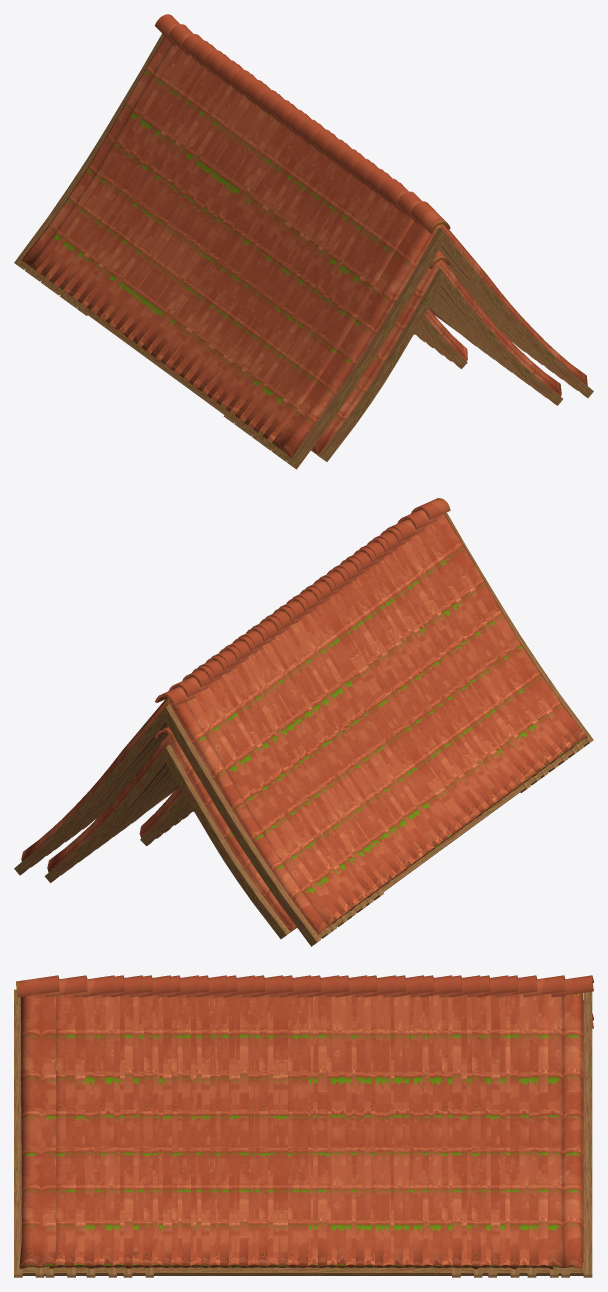
The model's file is village_kit.glb.
3 renders of one model, top to bottom at view 1: azimuth 30°, elevation 25°; view 2: azimuth 150°, elevation 25°; view 3: azimuth 270°, elevation 25°, orthographic. The views are drawn at different scales.
Parts seen in each view (by area): view 1: Roof_RoundTiles_8x14, Roof_RoundTiles_8x12, Roof_RoundTiles_8x10, Roof_RoundTiles_6x14, Roof_RoundTiles_8x8, Roof_RoundTiles_4x8; view 2: Roof_RoundTiles_8x14, Roof_RoundTiles_8x12, Roof_RoundTiles_8x10, Roof_RoundTiles_8x8, Roof_RoundTiles_6x14, Roof_RoundTiles_4x8; view 3: Roof_RoundTiles_8x14, Roof_RoundTiles_8x12, Roof_RoundTiles_8x10, Roof_RoundTiles_8x8.
Part boxes in pixels (x1,y1,x2,y2): Roof_RoundTiles_8x14: (14, 14, 593, 469); Roof_RoundTiles_8x12: (30, 24, 571, 454); Roof_RoundTiles_8x10: (49, 40, 553, 443); Roof_RoundTiles_6x14: (311, 250, 562, 461); Roof_RoundTiles_8x8: (66, 74, 535, 428); Roof_RoundTiles_4x8: (414, 309, 467, 368); Roof_RoundTiles_8x14: (14, 498, 593, 946); Roof_RoundTiles_8x12: (36, 509, 578, 931); Roof_RoundTiles_8x10: (55, 528, 558, 919); Roof_RoundTiles_8x8: (73, 552, 541, 905); Roof_RoundTiles_6x14: (44, 727, 296, 939); Roof_RoundTiles_4x8: (139, 786, 189, 846); Roof_RoundTiles_8x14: (14, 975, 593, 1277); Roof_RoundTiles_8x12: (45, 975, 565, 1277); Roof_RoundTiles_8x10: (83, 975, 519, 1277); Roof_RoundTiles_8x8: (123, 994, 482, 1277).
Size of the model in its own units: 9.95 by 8.12 by 15.71.
Materials: 10 (9 with a texture image).
